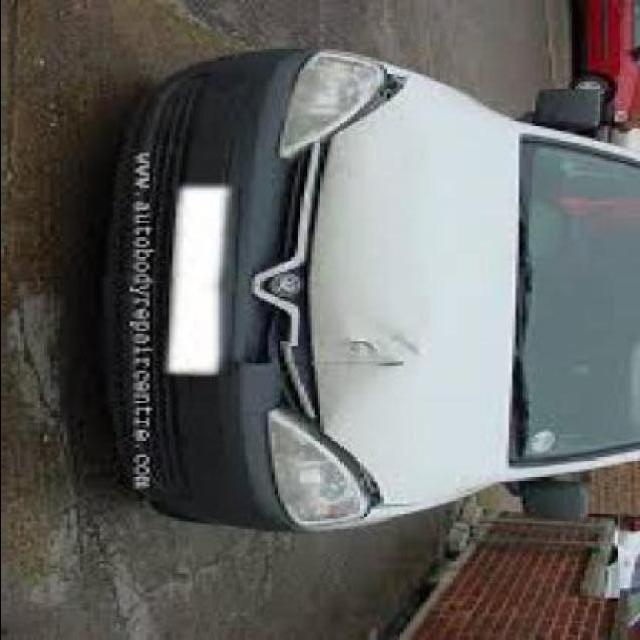bonnet-dent: (300, 106, 518, 492)
